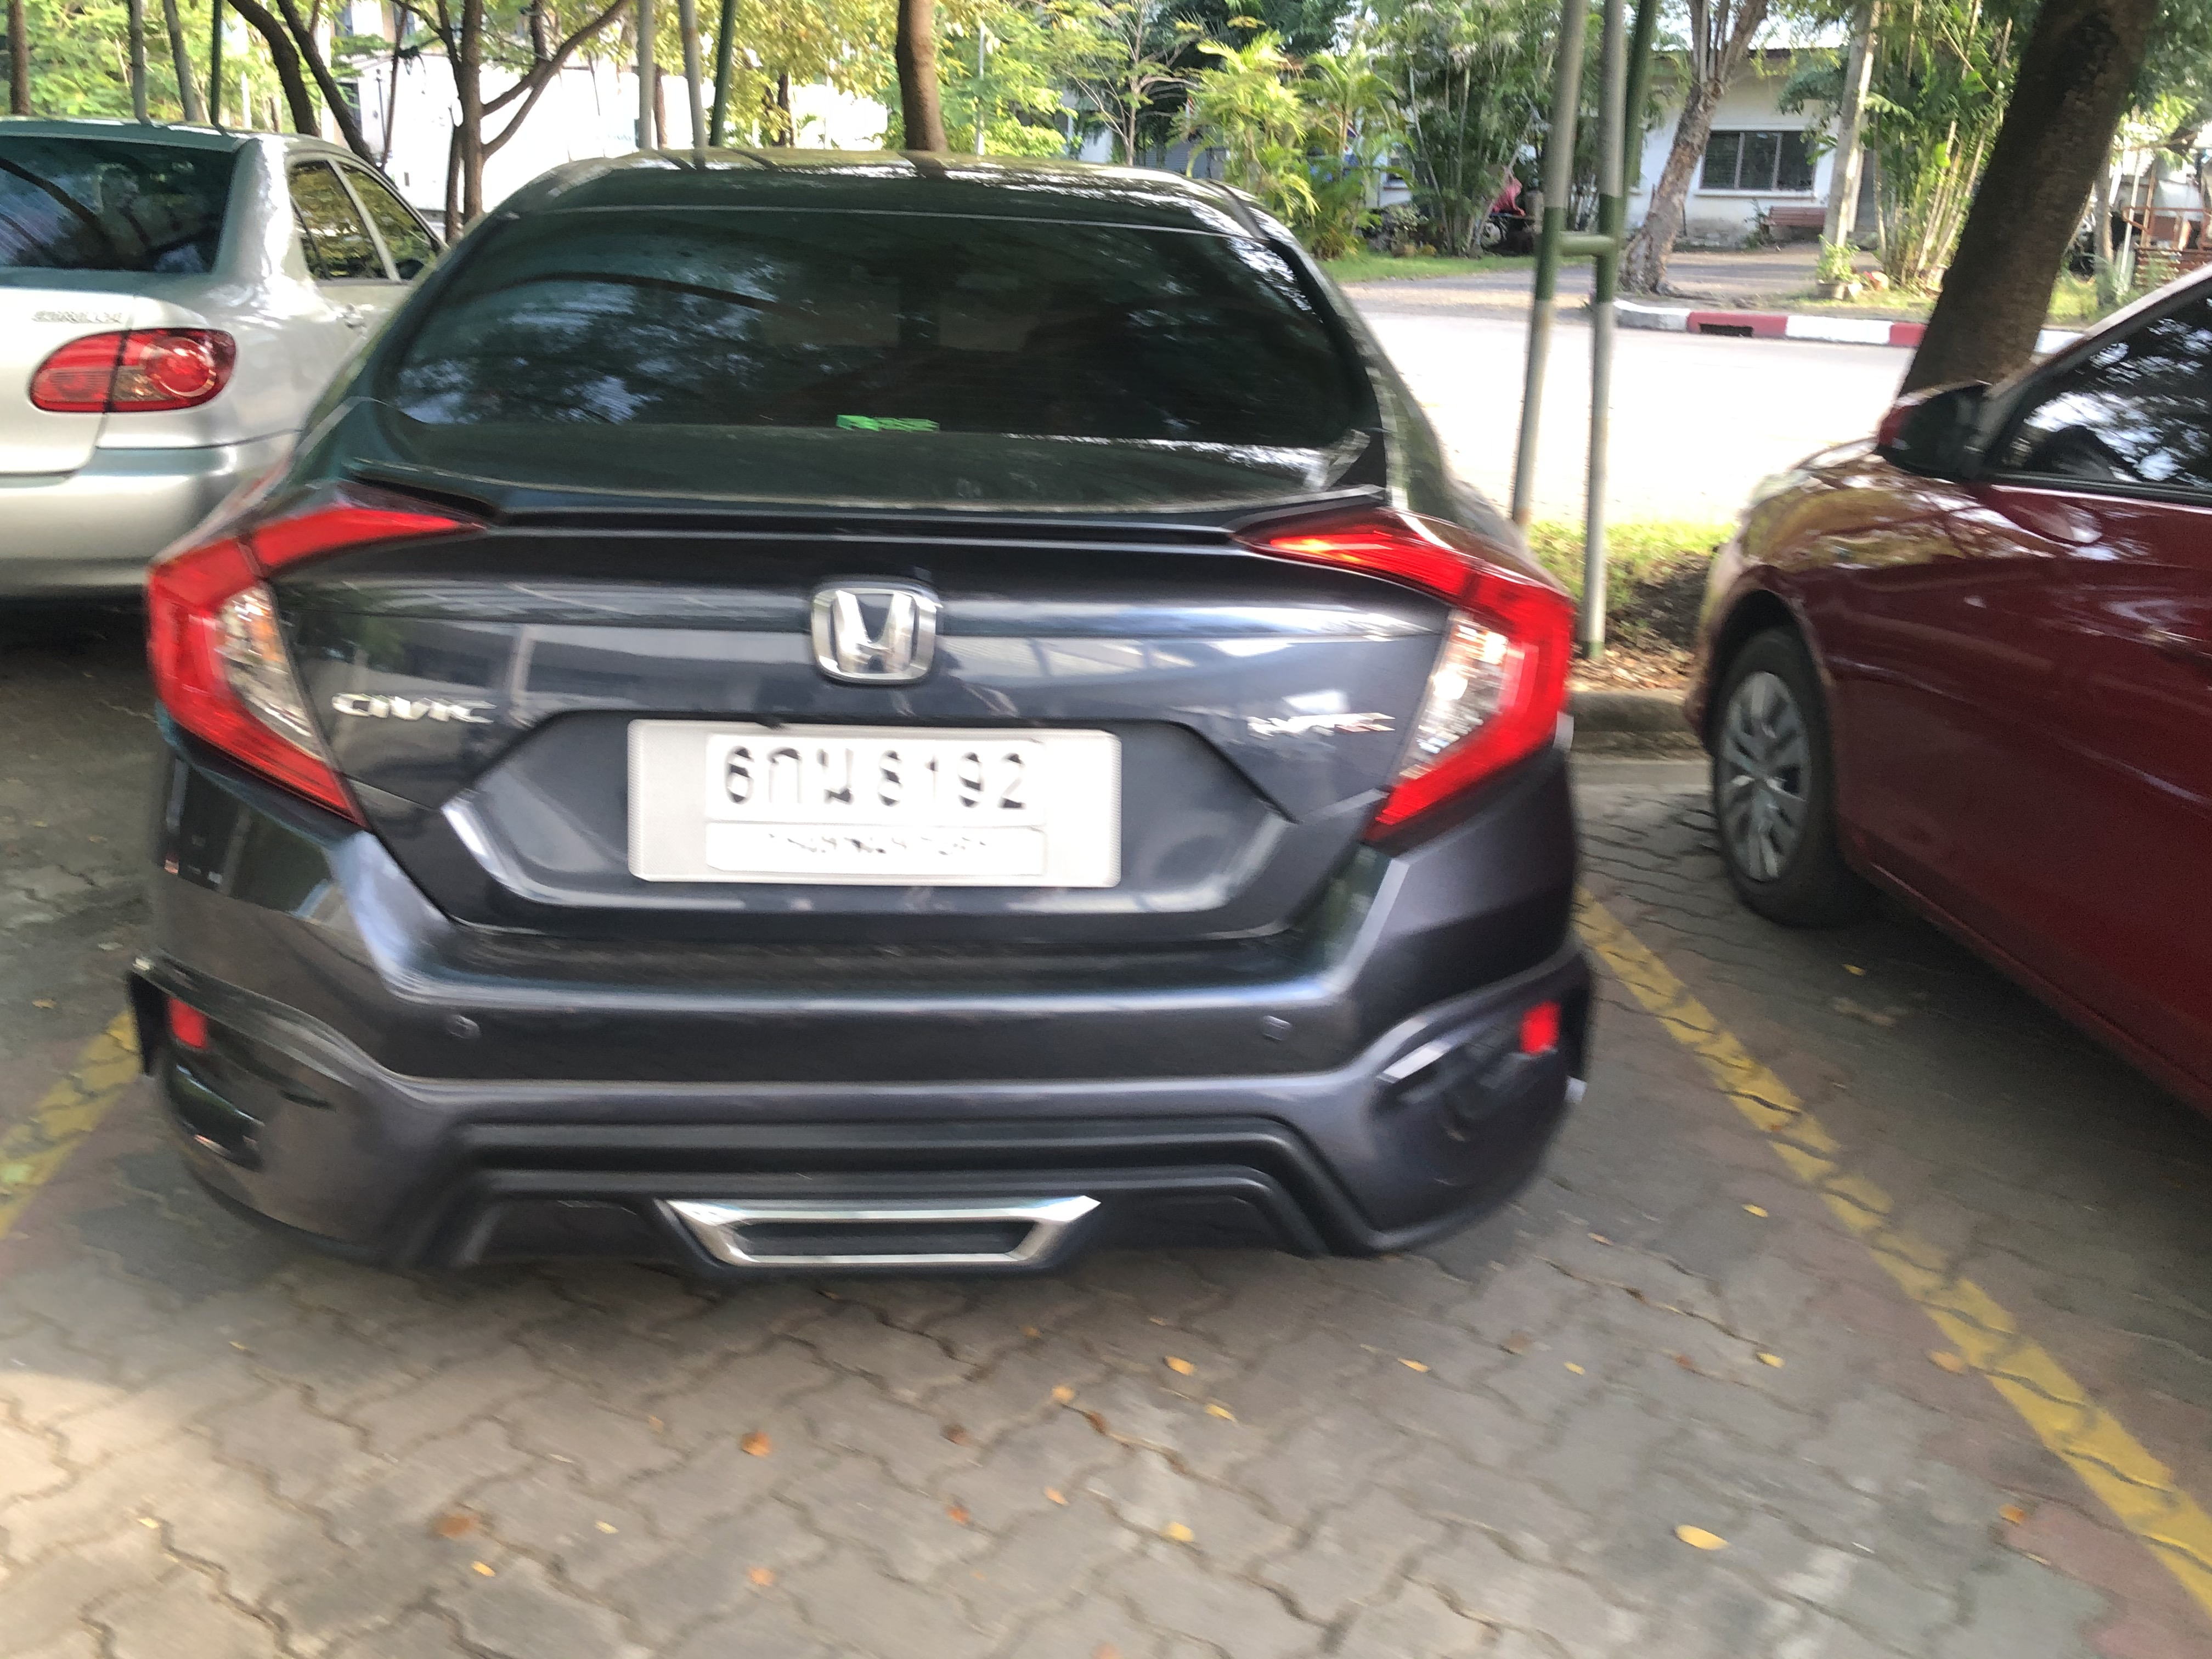in: (707, 732, 1050, 877)
out: (625, 714, 1130, 890)
